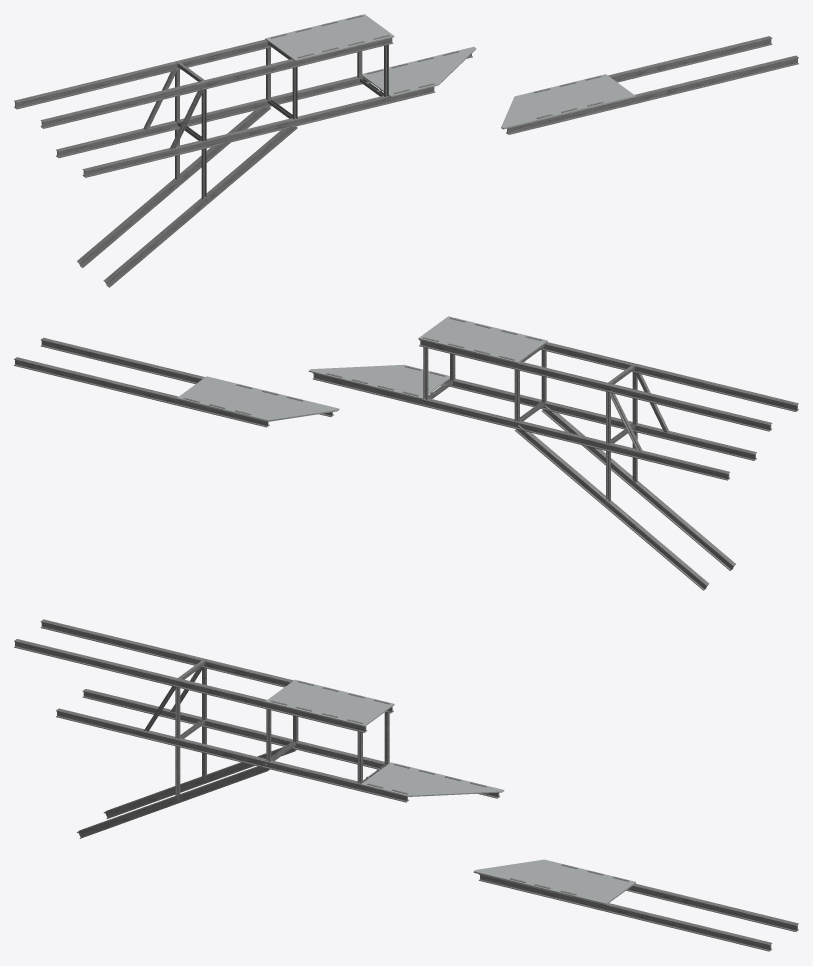
Rendered from Platforms.fbx.
The picture shows the model from 3 angles, top to bottom: view 1: azimuth 30°, elevation 25°; view 2: azimuth 150°, elevation 25°; view 3: azimuth 330°, elevation 25°; orthographic projection.
Visible parts, largest first — view 1: platform4, i_Beam2, i_Beam3, platform6, i_Beam1, i_Beam7, i_Beam4, platform5, i_Beam5, i_Beam6, i_Beam8; view 2: i_Beam1, platform4, i_Beam4, platform6, i_Beam2, i_Beam3, platform5, i_Beam6, i_Beam8, i_Beam5, i_Beam7; view 3: platform4, i_Beam2, i_Beam3, platform6, i_Beam1, i_Beam7, platform5, i_Beam4, i_Beam5, i_Beam8, i_Beam6.
Boxes of the visible parts, bbox=[...] form: platform4: bbox=[501, 74, 635, 129]; i_Beam2: bbox=[82, 86, 435, 177]; i_Beam3: bbox=[40, 38, 393, 128]; platform6: bbox=[265, 14, 394, 61]; i_Beam1: bbox=[56, 54, 472, 158]; i_Beam7: bbox=[506, 55, 798, 134]; i_Beam4: bbox=[14, 39, 271, 109]; platform5: bbox=[362, 46, 476, 96]; i_Beam5: bbox=[103, 122, 297, 287]; i_Beam6: bbox=[77, 103, 270, 267]; i_Beam8: bbox=[608, 36, 772, 82]; i_Beam1: bbox=[313, 373, 730, 480]; platform4: bbox=[177, 376, 339, 421]; i_Beam4: bbox=[419, 339, 772, 431]; platform6: bbox=[418, 316, 547, 363]; i_Beam2: bbox=[443, 378, 756, 460]; i_Beam3: bbox=[541, 342, 798, 411]; platform5: bbox=[308, 364, 449, 399]; i_Beam6: bbox=[515, 425, 709, 590]; i_Beam8: bbox=[14, 357, 269, 427]; i_Beam5: bbox=[542, 405, 735, 570]; i_Beam7: bbox=[41, 337, 333, 416]; platform4: bbox=[473, 859, 635, 904]; i_Beam2: bbox=[56, 708, 408, 802]; i_Beam3: bbox=[14, 639, 367, 732]; platform6: bbox=[265, 679, 394, 726]; i_Beam1: bbox=[82, 689, 500, 798]; i_Beam7: bbox=[478, 874, 772, 951]; platform5: bbox=[361, 762, 504, 796]; i_Beam4: bbox=[40, 619, 393, 713]; i_Beam5: bbox=[77, 763, 270, 838]; i_Beam8: bbox=[626, 883, 798, 931]; i_Beam6: bbox=[104, 746, 296, 818].
Size of the model in its own units: 6188 by 1441 by 428.
